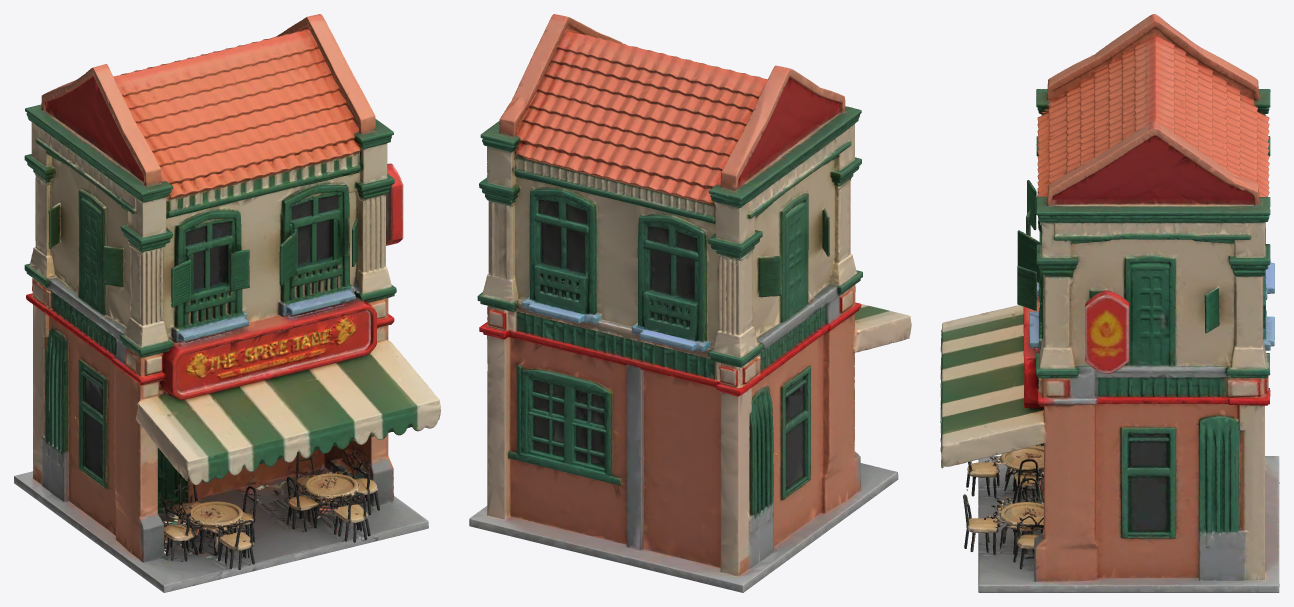
Rendered from shophouse_A_opt.glb.
3 views of the same model, side by side, from view 1: azimuth 30°, elevation 25°; view 2: azimuth 150°, elevation 25°; view 3: azimuth 270°, elevation 25° (orthographic). The views are drawn at different scales.
Visible parts, largest first — view 1: Mesh_0; view 2: Mesh_0; view 3: Mesh_0.
Boxes of the visible parts, x1,y1,x2,y2 form: Mesh_0: (14,14,440,592); Mesh_0: (469,14,911,592); Mesh_0: (940,14,1279,592).
Size of the model in its own units: 3.37 by 5 by 3.35.
1 material, 1 textured.
